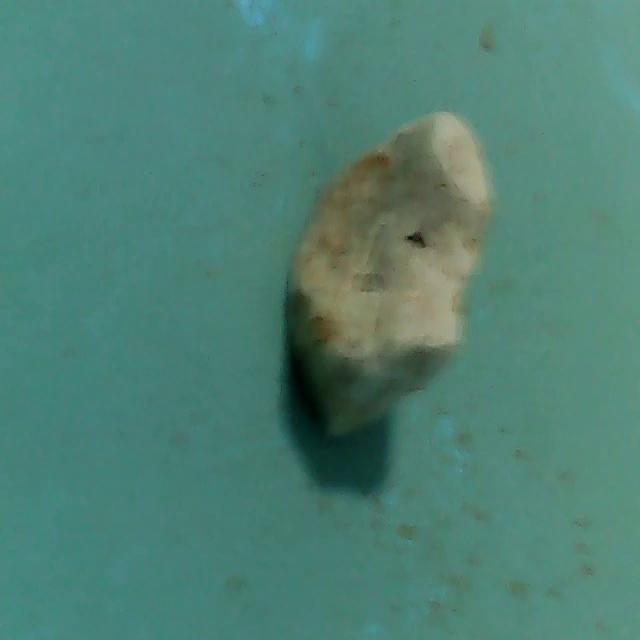rock: (282, 112, 492, 448)
